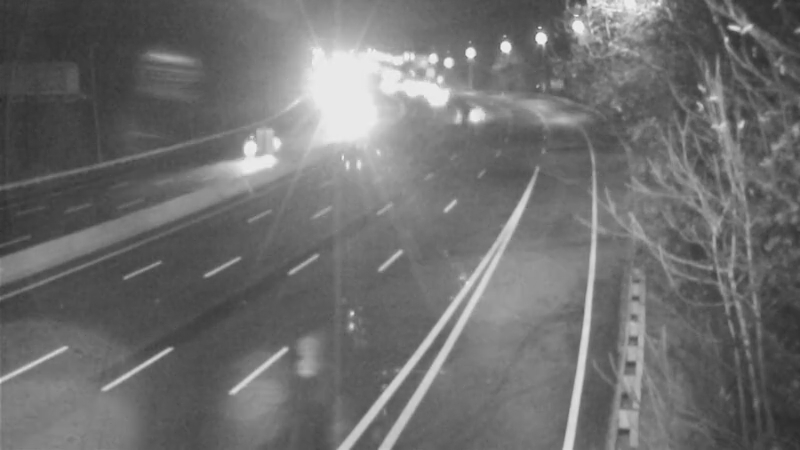vehicle: (405, 74, 455, 124), (444, 90, 494, 140), (227, 121, 277, 171)
